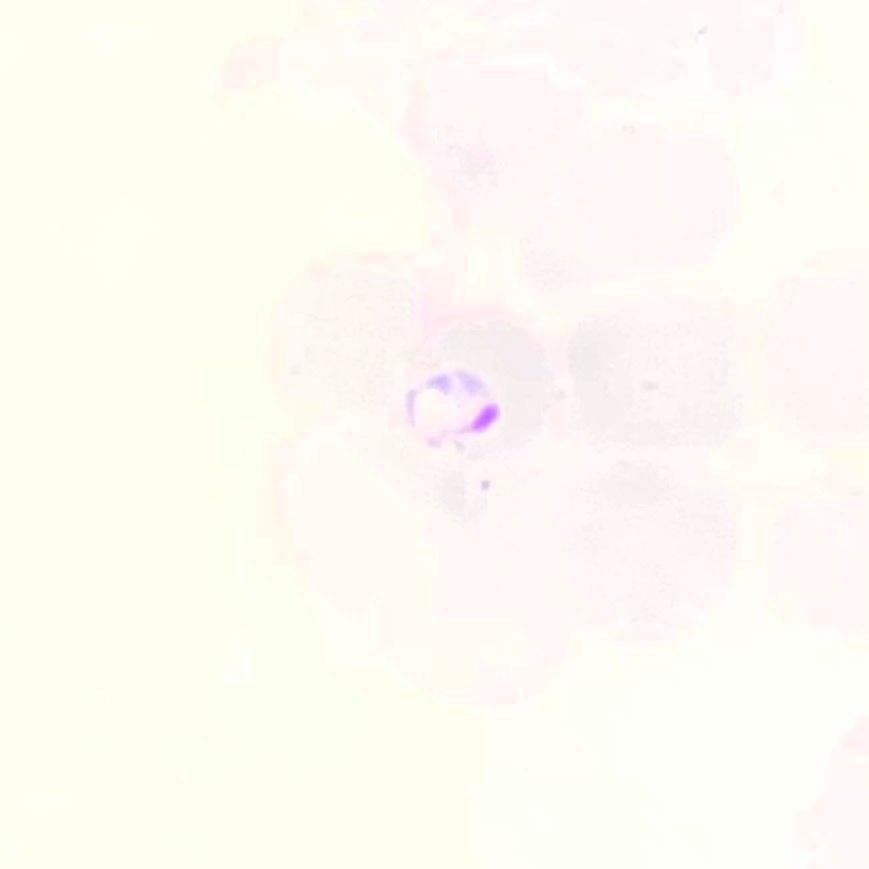Infected: (395, 372, 504, 451)
